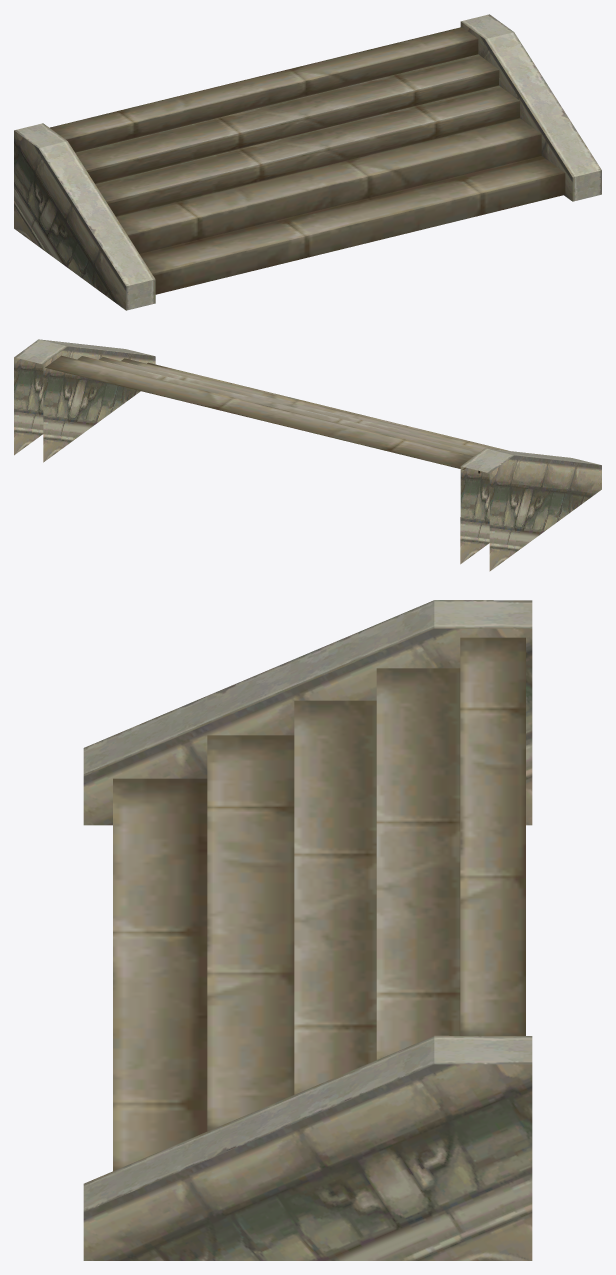
File: environment_Building_zhucheng_002_c.FBX
3 views of the same model, one above another, from view 1: azimuth 30°, elevation 25°; view 2: azimuth 150°, elevation 25°; view 3: azimuth 270°, elevation 25° (orthographic). The views are drawn at different scales.
Parts seen in each view (by area): view 1: environment_Building_zhucheng_002_c2, environment_Building_zhucheng_002_c1; view 2: environment_Building_zhucheng_002_c1, environment_Building_zhucheng_002_c2; view 3: environment_Building_zhucheng_002_c2, environment_Building_zhucheng_002_c1.
Boxes of the visible parts, bbox=[...] form: environment_Building_zhucheng_002_c2: bbox=[50, 27, 565, 294]; environment_Building_zhucheng_002_c1: bbox=[14, 14, 601, 310]; environment_Building_zhucheng_002_c1: bbox=[14, 339, 601, 571]; environment_Building_zhucheng_002_c2: bbox=[45, 355, 508, 473]; environment_Building_zhucheng_002_c2: bbox=[113, 637, 525, 1170]; environment_Building_zhucheng_002_c1: bbox=[83, 600, 532, 1260].
Size of the model in its own units: 541 by 107 by 221.
